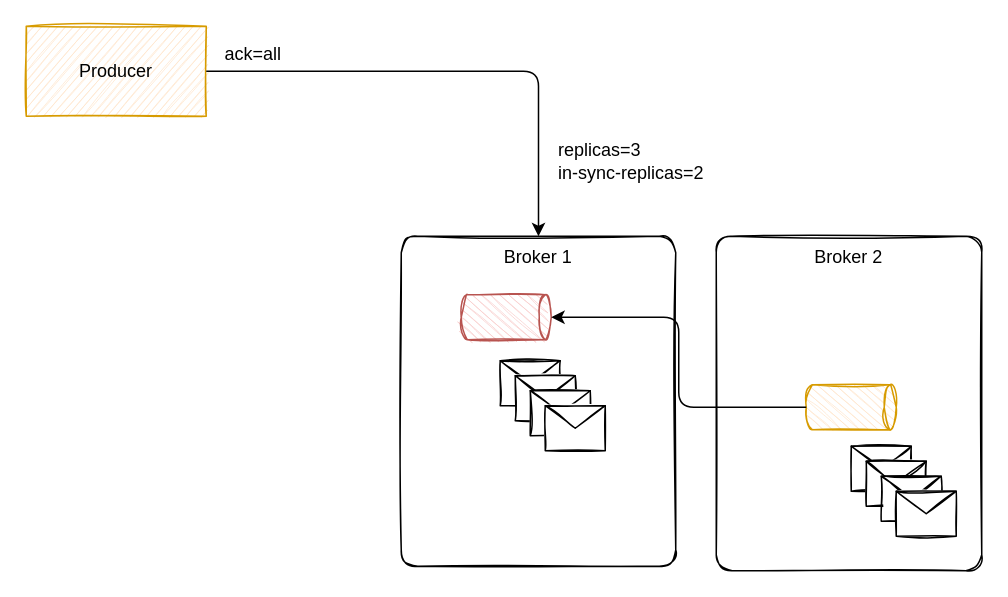
This 1008x597 diagram has some shape labels left out. The shapes that lost their labels are listed below. From the top down, each one's centre as x and y in pixels, then its label:
At [505,316]: "topic".
At [850,406]: "replica topic".
